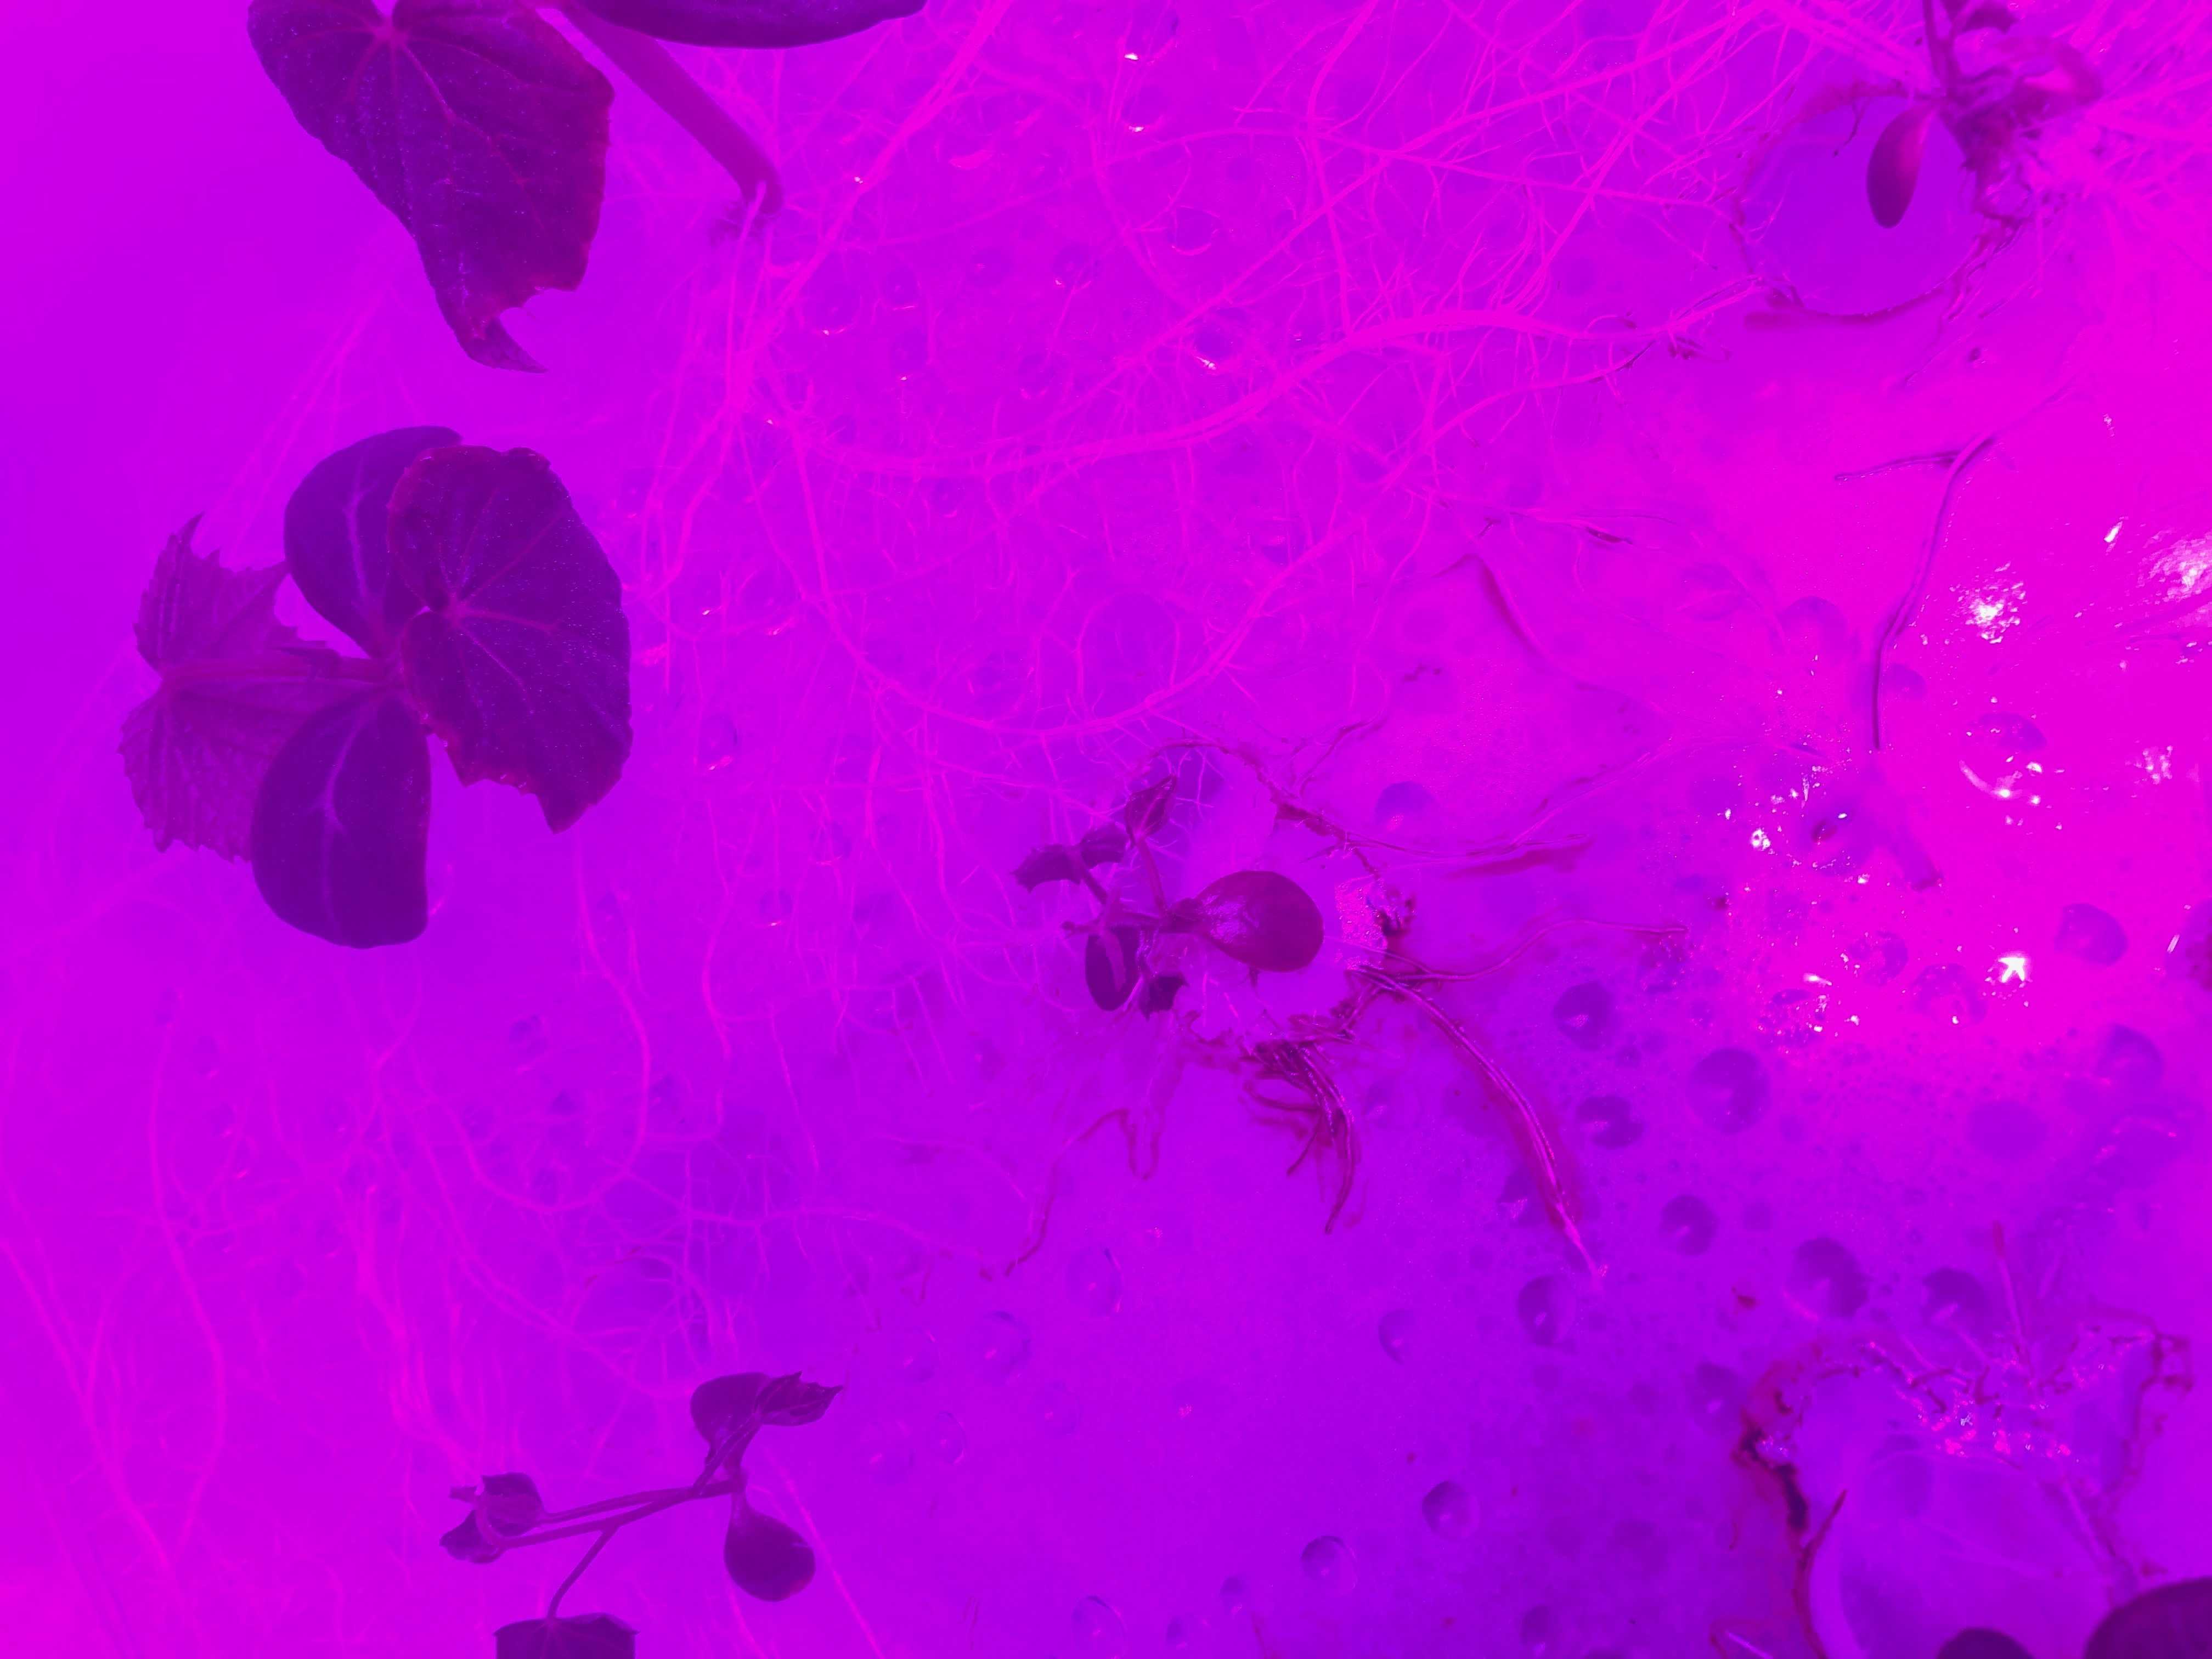lil_plant: (78, 389, 712, 1019), (345, 1312, 928, 1642), (941, 744, 1264, 1046)
